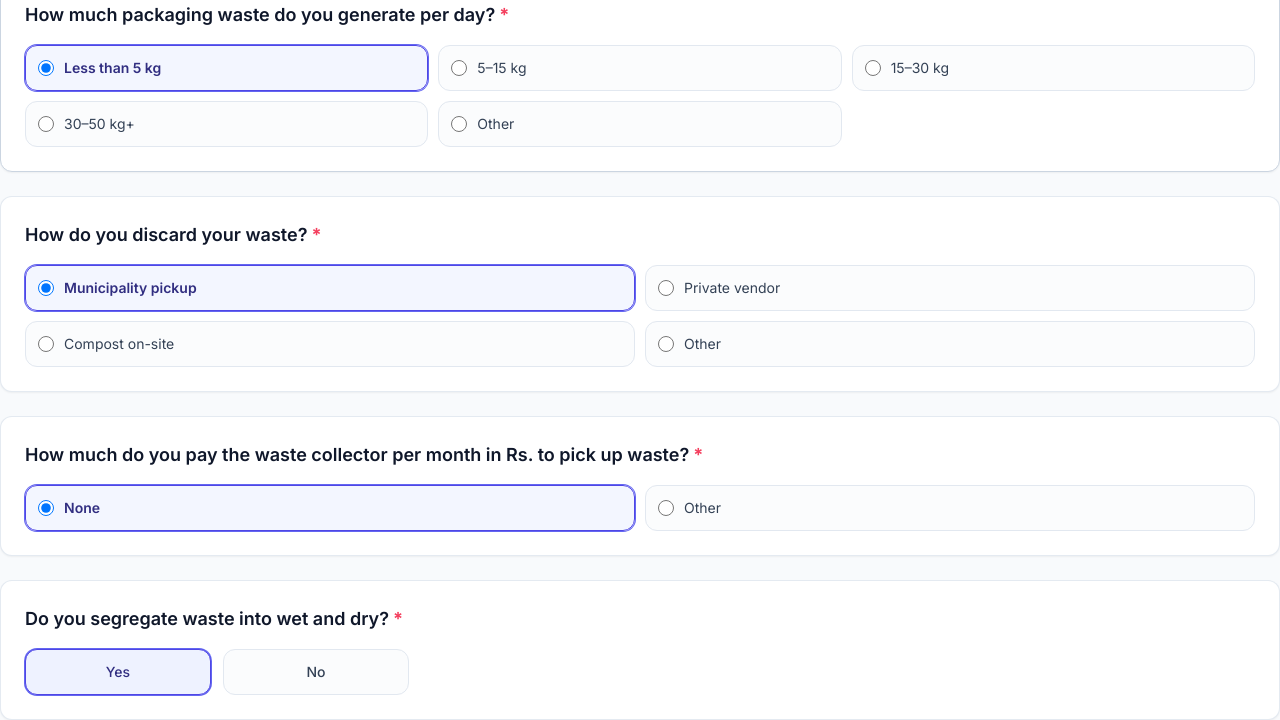
Test: Conditional Logic & Field Visibility › reveals numeric monthly waste cost input when Other cost type is selected
The width and height of the screenshot is (1280, 720).
(page scrolled)
Expected: the field with placeholder "Enter monthly cost in ₹ (Rs.)" is not shown
# Click monthly cost Other radio
Click the radio button labelled "Other" in the row of "None". click: coordinates (666, 508)
box: [658,500,674,516]
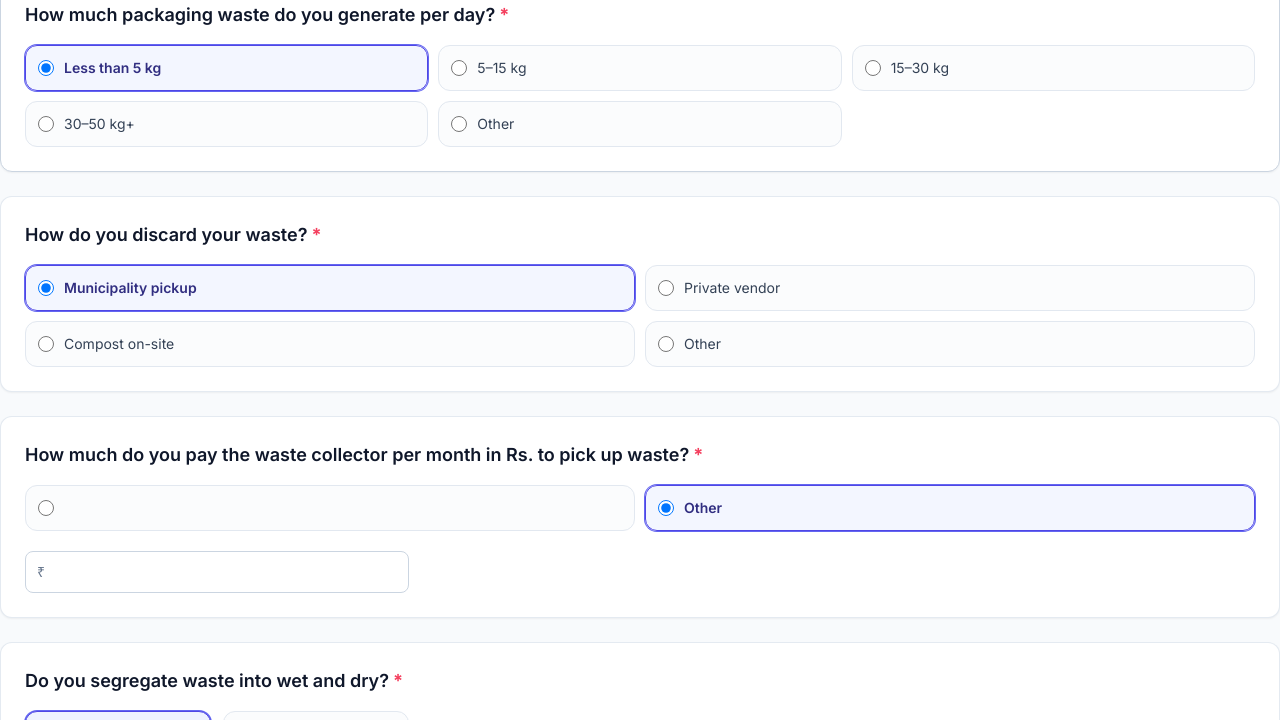
Now the number field with placeholder "Enter monthly cost in ₹ (Rs.)" is shown, box [25,551,409,593]
